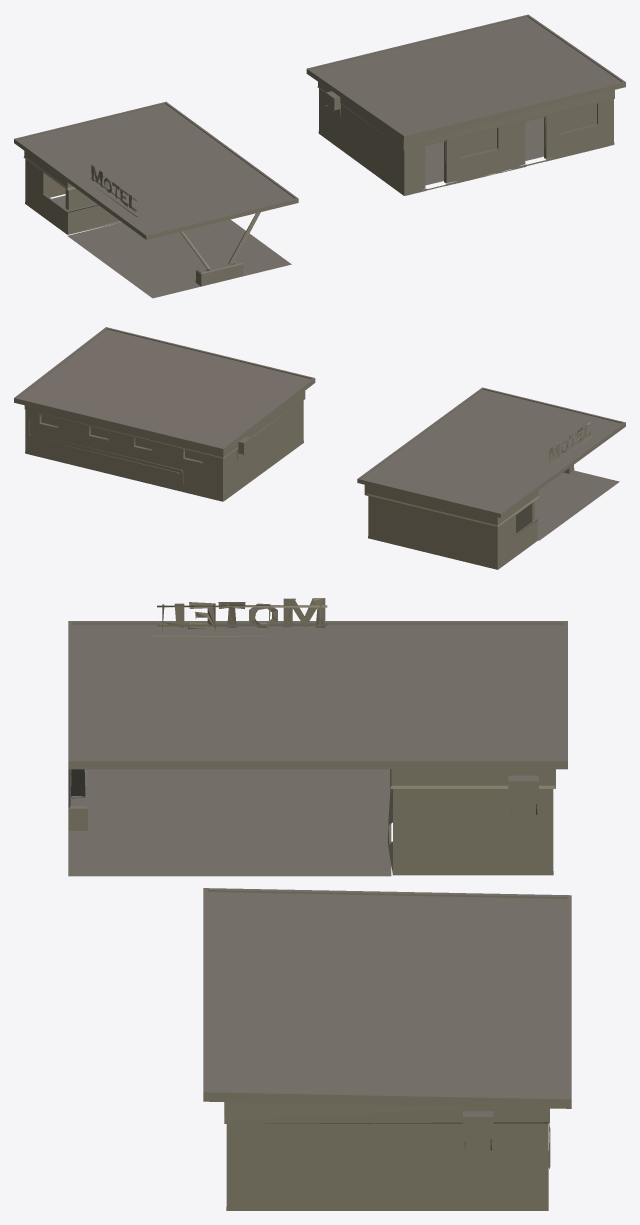
File: modular-motel.far-facades-v3.lod2.glb
3 renders of one model, top to bottom at view 1: azimuth 30°, elevation 25°; view 2: azimuth 150°, elevation 25°; view 3: azimuth 270°, elevation 25°, orthographic. The views are drawn at different scales.
Visible parts, largest first — view 1: modular-motel; view 2: modular-motel; view 3: modular-motel.
Boxes of the visible parts, x1,y1,x2,y2 form: modular-motel: [14, 14, 625, 298]; modular-motel: [14, 327, 625, 569]; modular-motel: [68, 598, 571, 1210].
Size of the model in its own units: 24.49 by 3.77 by 10.94.
